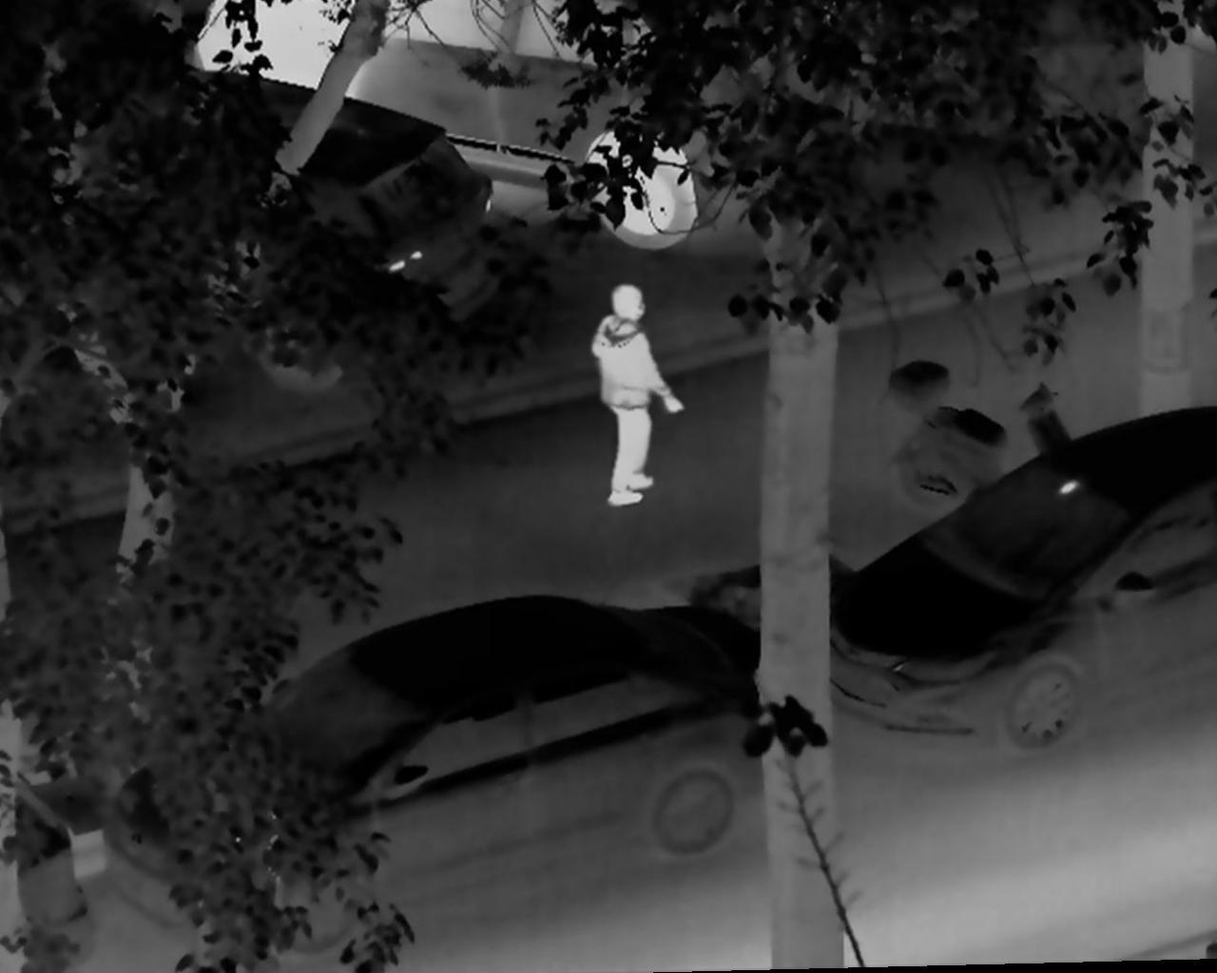person: (583, 283, 686, 511)
